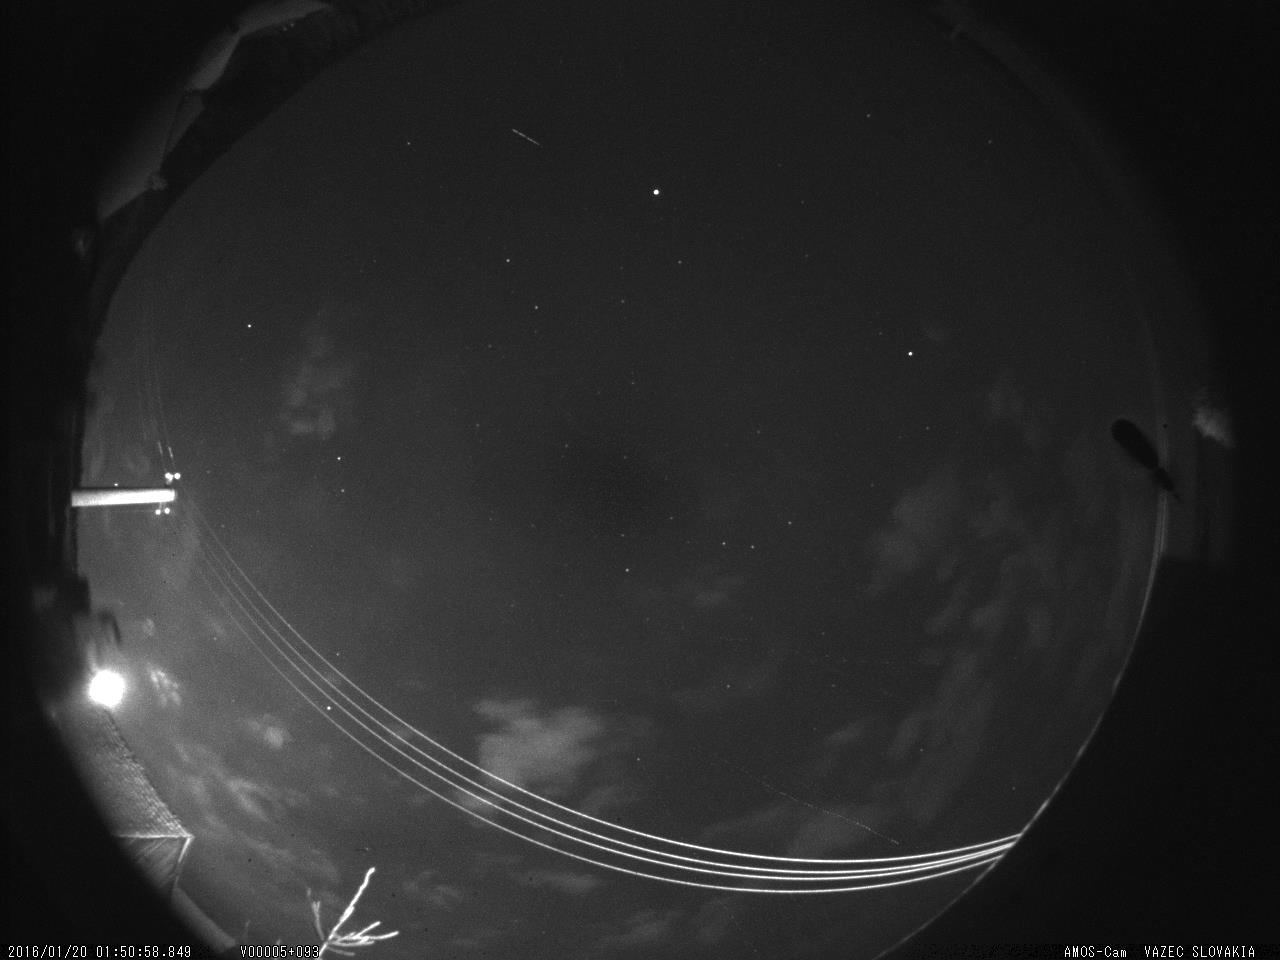meteor: (494, 117, 553, 163)
